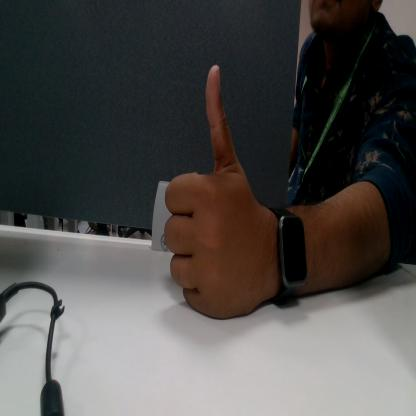Thumbs up: (161, 59, 261, 318)
